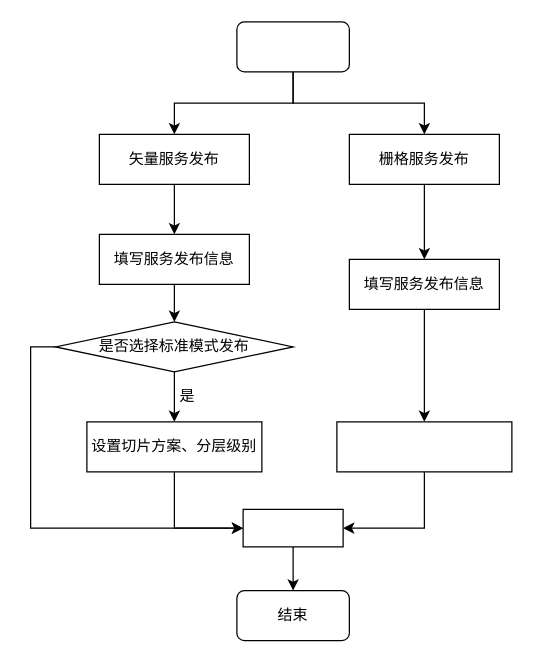
Some shapes in this 534 by 663 pixel diagram are drawn without their labels. The box of each missing label's shape, as (x1, y1, x2, y2) in pixels:
发布: (242, 508, 343, 547)
开始: (236, 21, 349, 72)
设置切片方案，透明色: (336, 421, 512, 472)
